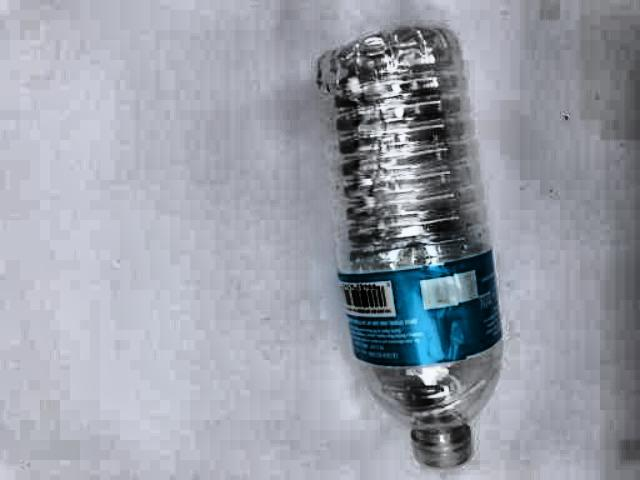Bottles: (304, 15, 534, 465)
